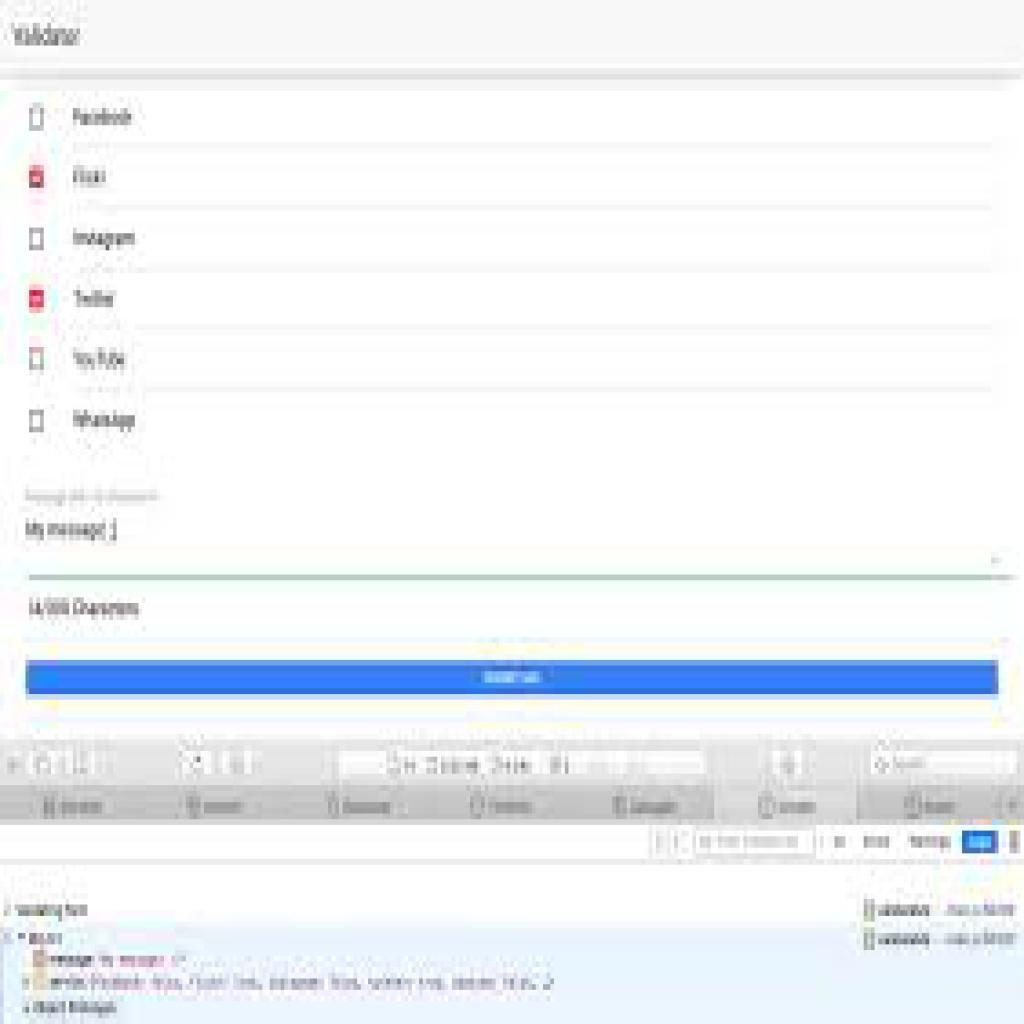button: (23, 662, 1001, 696)
checkbox: (28, 285, 47, 315), (28, 164, 47, 192), (28, 226, 46, 253), (30, 105, 46, 133), (30, 409, 46, 435), (29, 348, 45, 373)
